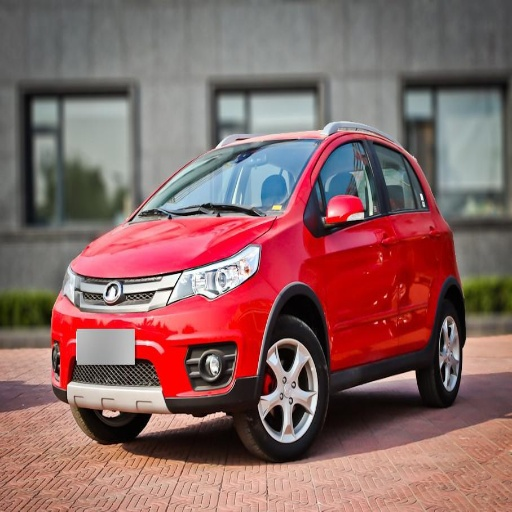front_bumper: (51, 271, 276, 418)
front_glass: (130, 140, 318, 221)
front_left_door: (307, 134, 396, 363)
